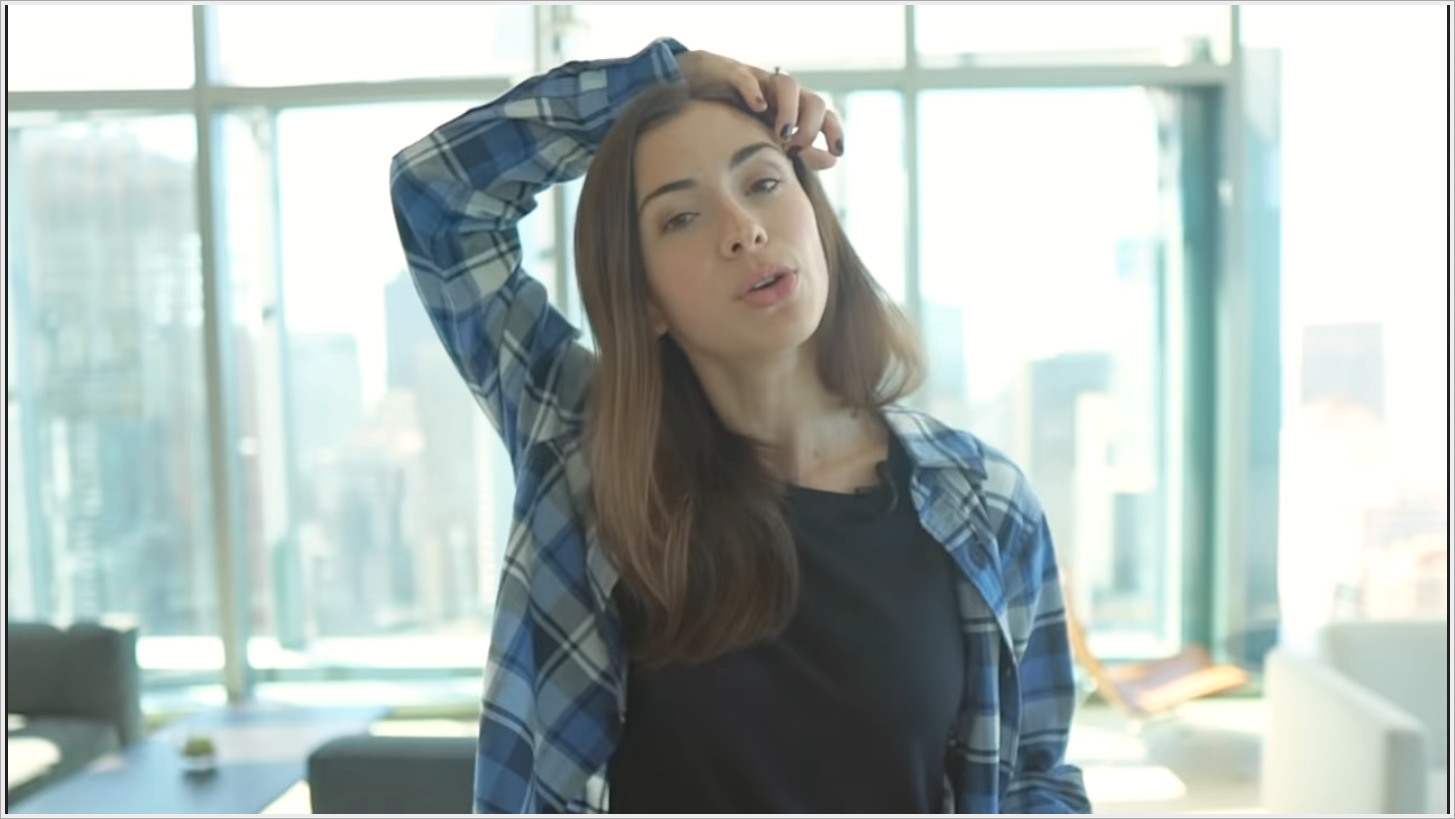hand: (668, 30, 868, 172)
